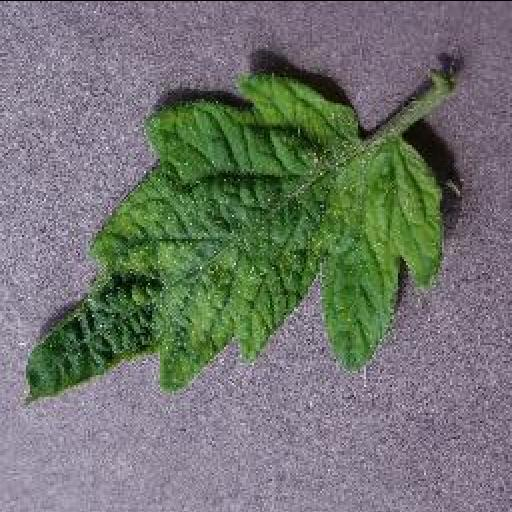disease_tomato: (18, 74, 446, 410)
